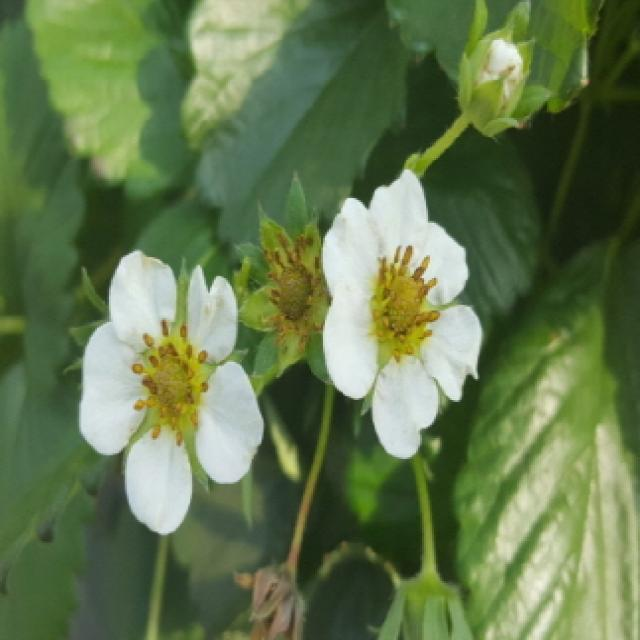Blossom Blight: (125, 312, 214, 447), (367, 241, 451, 366), (262, 235, 326, 332)
